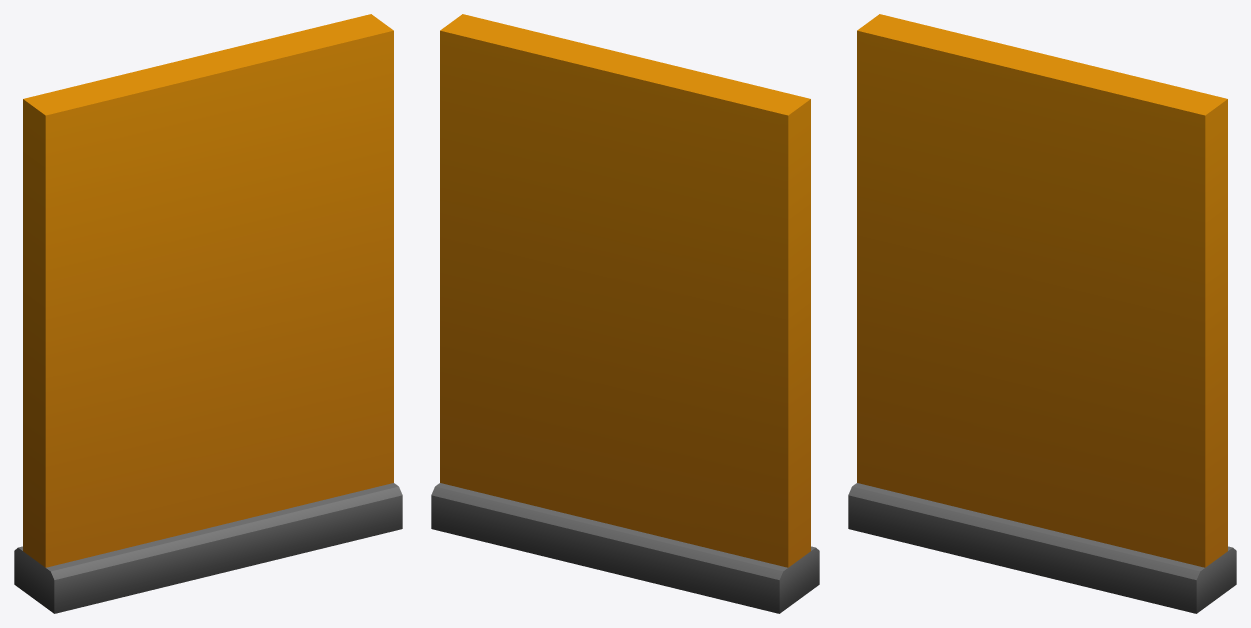
The model's file is Wall_01_B.fbx.
The picture shows the model from 3 angles, left to right: view 1: azimuth 30°, elevation 25°; view 2: azimuth 150°, elevation 25°; view 3: azimuth 330°, elevation 25°; orthographic projection.
Visible parts, largest first — view 1: Wall_01; view 2: Wall_01; view 3: Wall_01.
Part boxes in pixels (<box>): Wall_01: <box>14,14,402,613</box>; Wall_01: <box>431,14,819,613</box>; Wall_01: <box>848,14,1236,613</box>.
Size of the model in its own units: 200 by 270 by 40.
